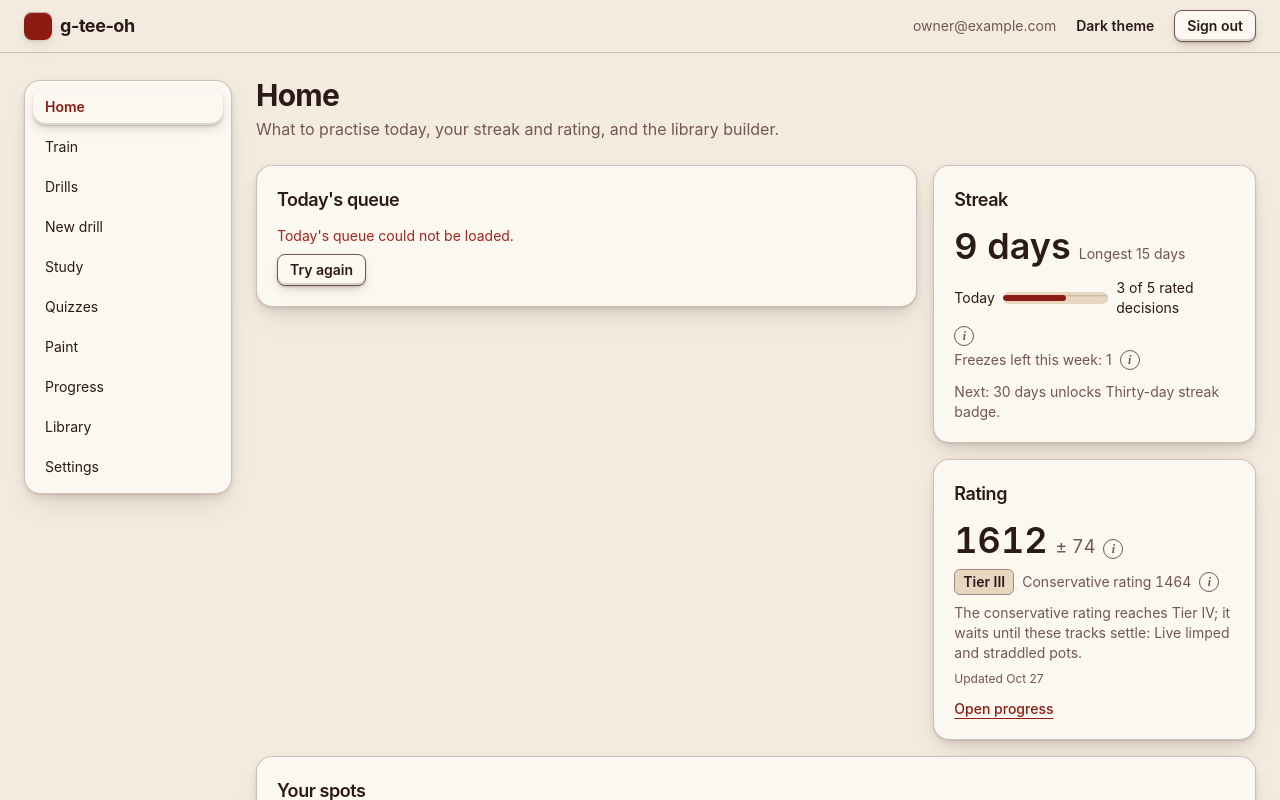
R4.12 home queue card › R4.12 a failed read shows an alert and Try again loads the queue
The width and height of the screenshot is (1280, 800).
Expected: the message shows "Today's queue could not be loaded.", [277,227,514,244]
Click the button named "Try again: today's queue" at (322, 270), box [277,254,366,286]
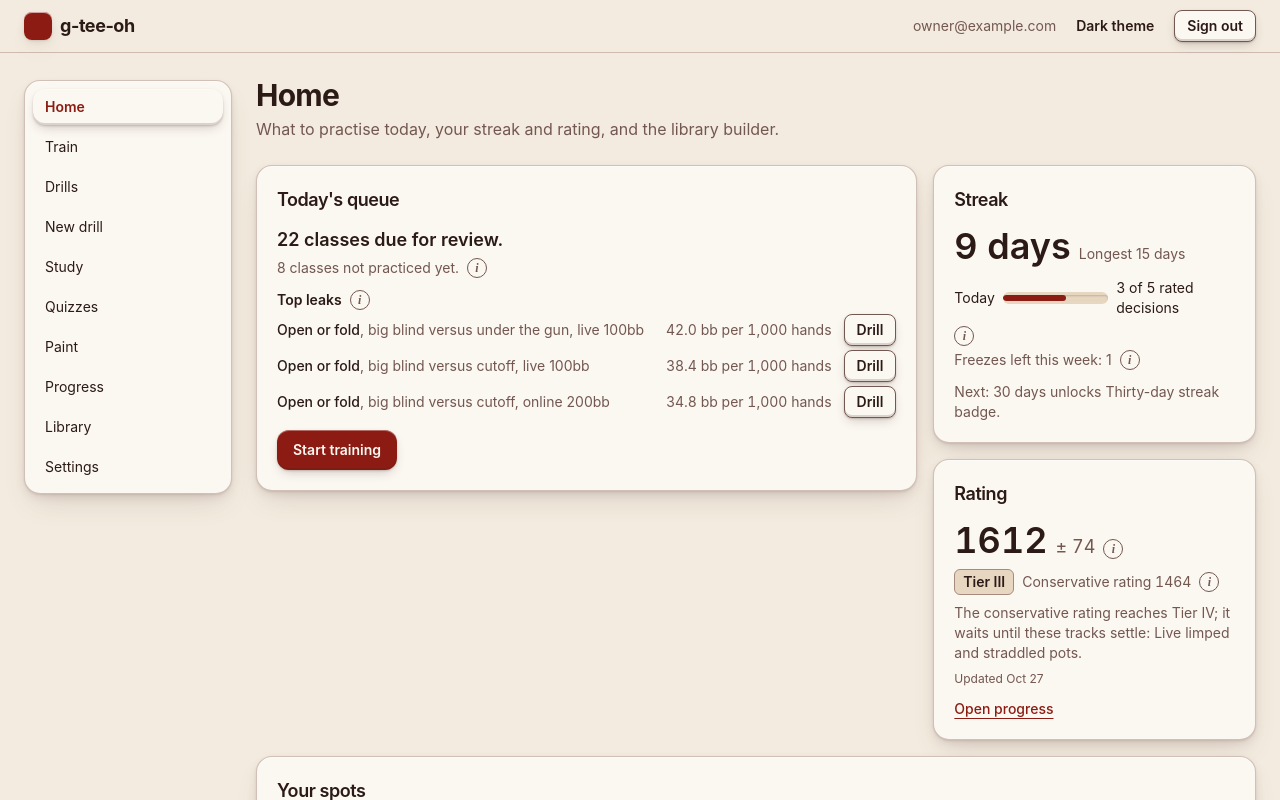
Now the text with test id "queue-due" reads "22 classes due for review.", box [277,229,503,250]
